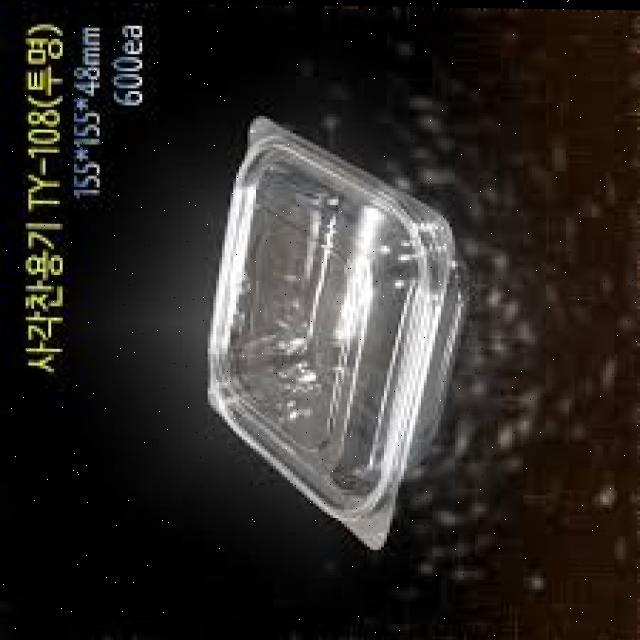disposable: (192, 104, 472, 537)
